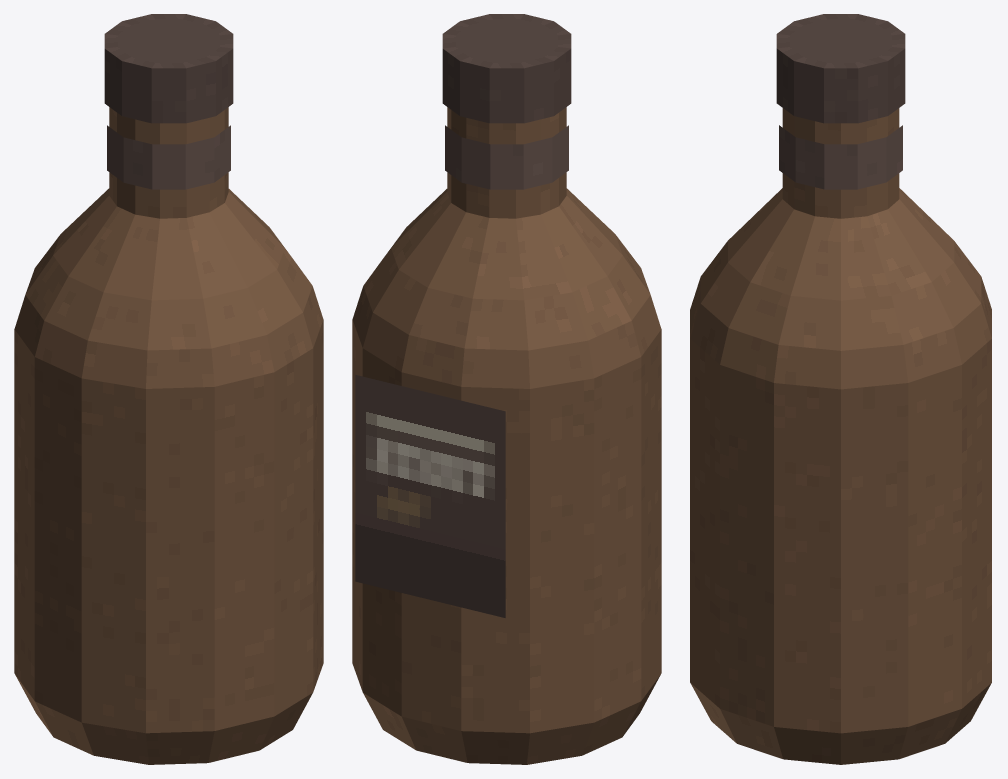
File: stout.glb
3 views of the same model, side by side, from view 1: azimuth 30°, elevation 25°; view 2: azimuth 150°, elevation 25°; view 3: azimuth 270°, elevation 25° (orthographic).
Visible parts, largest first — view 1: block_bottle silhouette, block_bottle closure, block_neck band; view 2: block_bottle silhouette, block_drink label, block_bottle closure, block_neck band; view 3: block_bottle silhouette, block_bottle closure, block_neck band.
Part boxes in pixels (x1=…): block_bottle silhouette: x1=14, y1=107, x2=323, y2=764; block_bottle closure: x1=104, y1=14, x2=233, y2=123; block_neck band: x1=107, y1=125, x2=230, y2=189; block_bottle silhouette: x1=352, y1=107, x2=661, y2=764; block_drink label: x1=355, y1=375, x2=505, y2=617; block_bottle closure: x1=442, y1=14, x2=571, y2=123; block_neck band: x1=445, y1=125, x2=568, y2=189; block_bottle silhouette: x1=690, y1=108, x2=991, y2=764; block_bottle closure: x1=776, y1=14, x2=905, y2=123; block_neck band: x1=779, y1=125, x2=902, y2=189.
Bounding box in the file's own units: 0.0688 × 0.1638 × 0.0675.
1 material, 1 textured.
